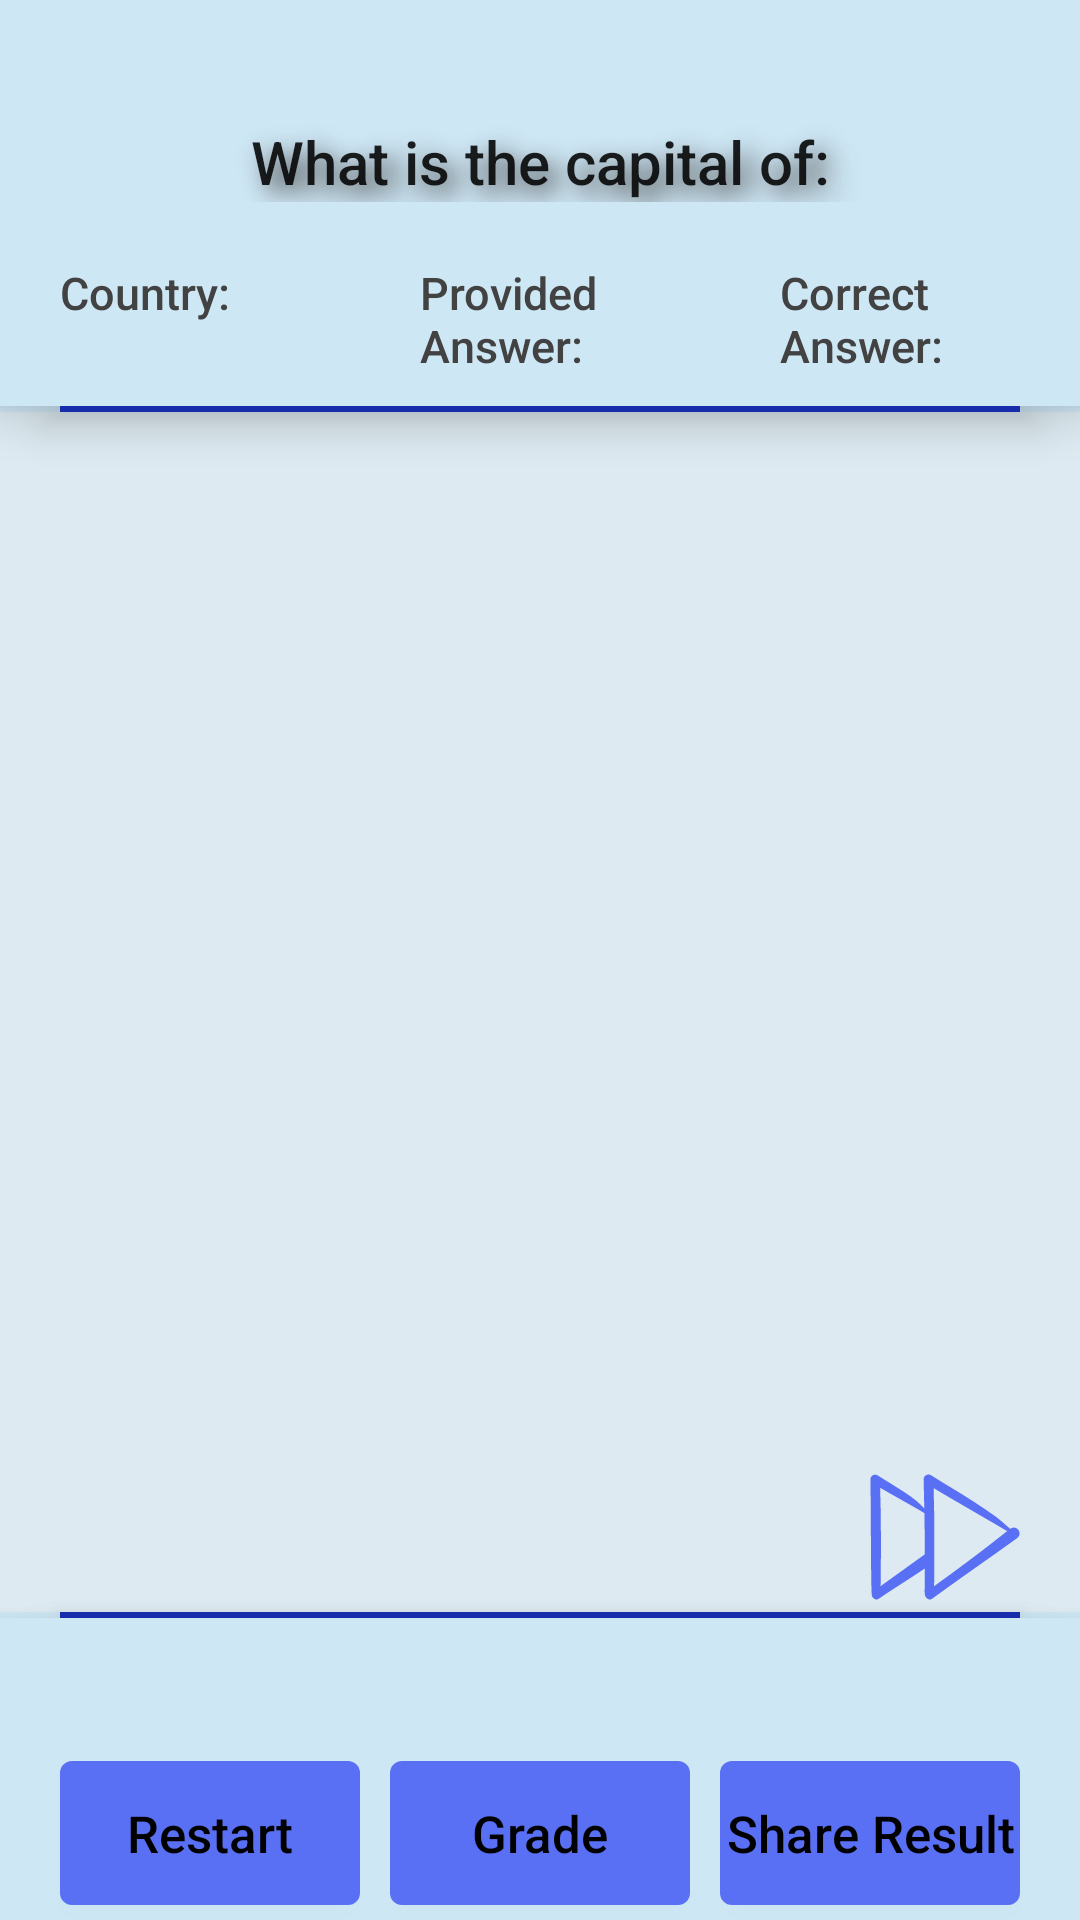

Icons on this 1080w x 1920h Android screen, each with its box as box(x1, y1, x2, y2):
pic next: box(870, 1474, 1020, 1600)
